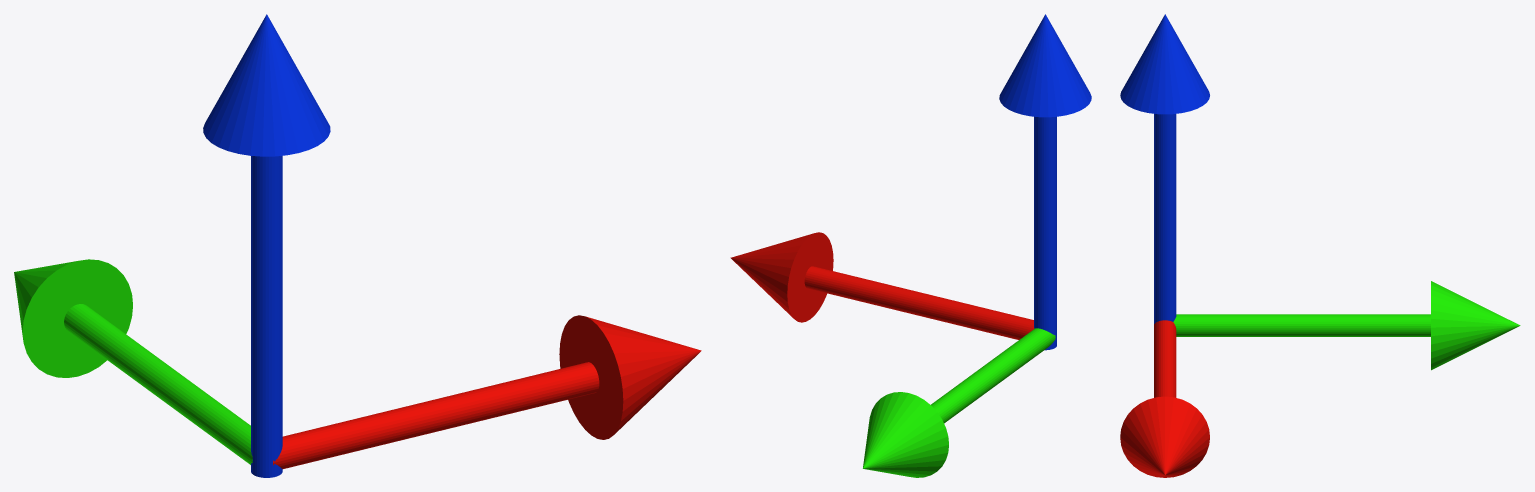
The model's file is axes.glb.
3 views of the same model, side by side, from view 1: azimuth 30°, elevation 25°; view 2: azimuth 150°, elevation 25°; view 3: azimuth 270°, elevation 25° (orthographic). The views are drawn at different scales.
Visible parts, largest first — view 1: Cone; view 2: Cone; view 3: Cone.
Boxes of the visible parts, x1,y1,x2,y2 form: Cone: (14, 14, 701, 477); Cone: (730, 14, 1091, 477); Cone: (1120, 14, 1520, 477).
Bounding box in the file's own units: 0.4437 × 0.4325 × 0.4455.
